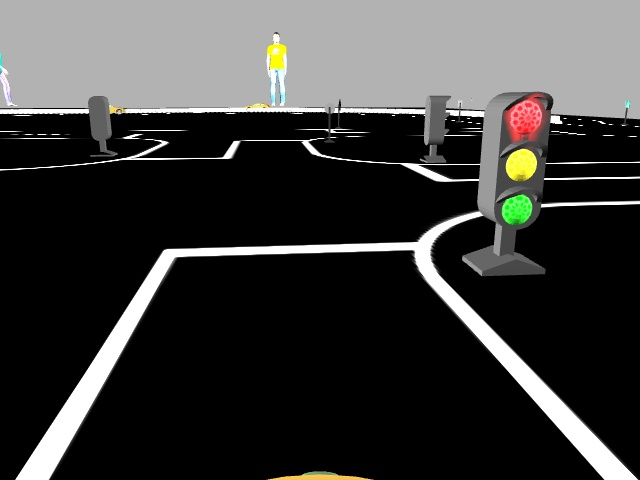TrafficLight: (476, 90, 554, 230)
